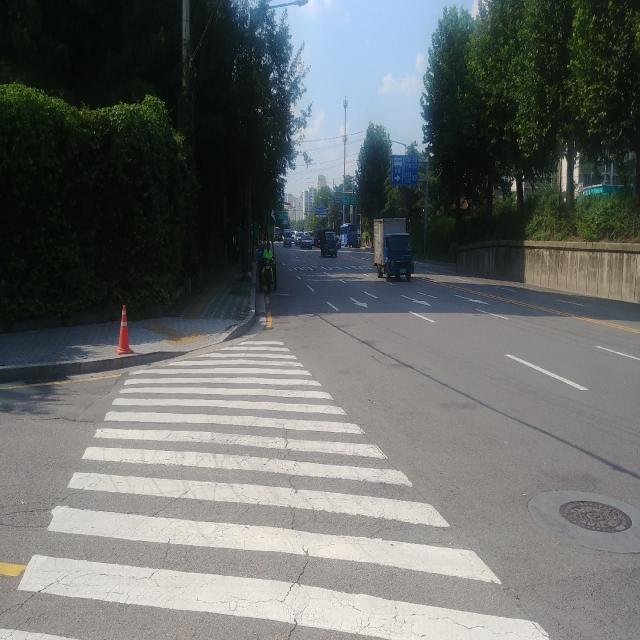횡단보도: (0, 339, 549, 639)
